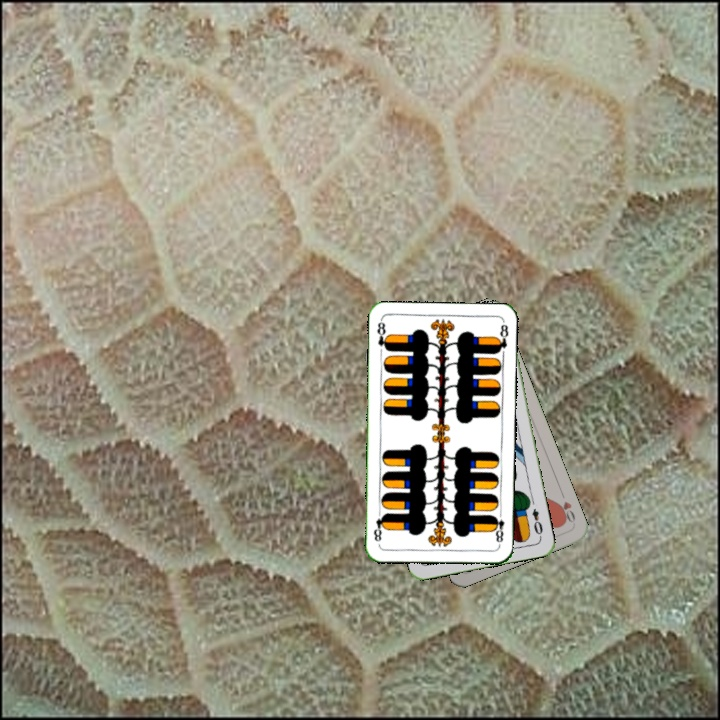E8: (489, 507, 507, 548), (373, 317, 391, 353)
EO: (528, 505, 545, 540)
HO: (553, 497, 578, 525)
